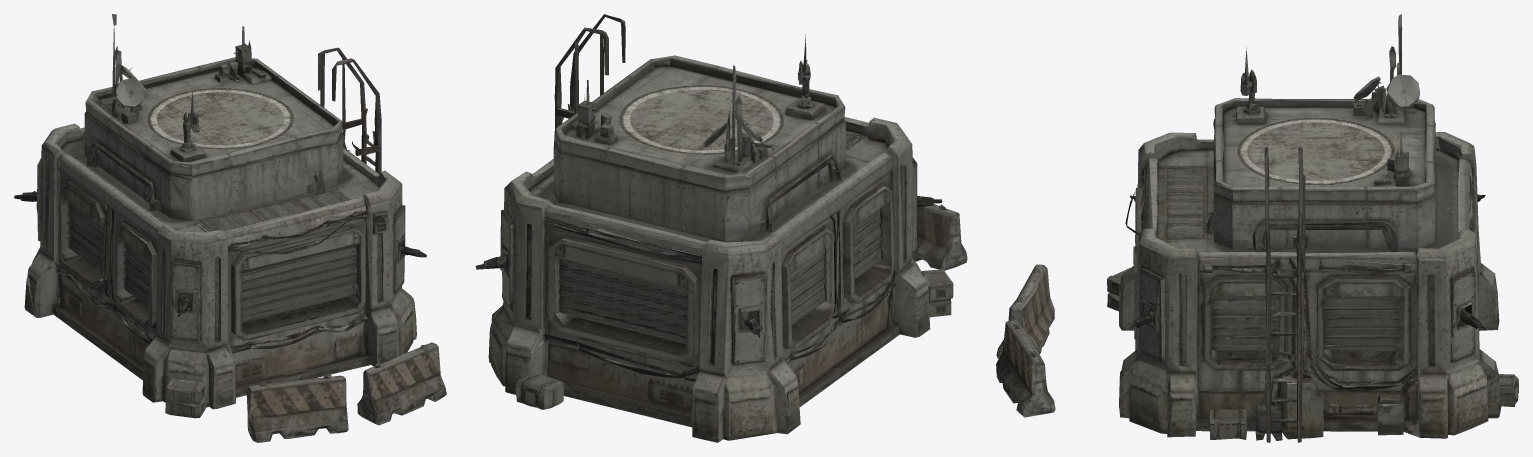
File: struct.barracks.l2.glb
The picture shows the model from 3 angles, left to right: view 1: azimuth 30°, elevation 25°; view 2: azimuth 150°, elevation 25°; view 3: azimuth 270°, elevation 25°; orthographic projection. The views are drawn at different scales.
Parts seen in each view (by area): view 1: body; view 2: body; view 3: body.
Boxes of the visible parts, left/top/right/bottom form: body: left=14, top=14, right=446, bottom=442; body: left=475, top=14, right=967, bottom=442; body: left=996, top=14, right=1518, bottom=442.
Size of the model in its own units: 1.06 by 1.08 by 1.6.
Materials: 1 (1 with a texture image).
